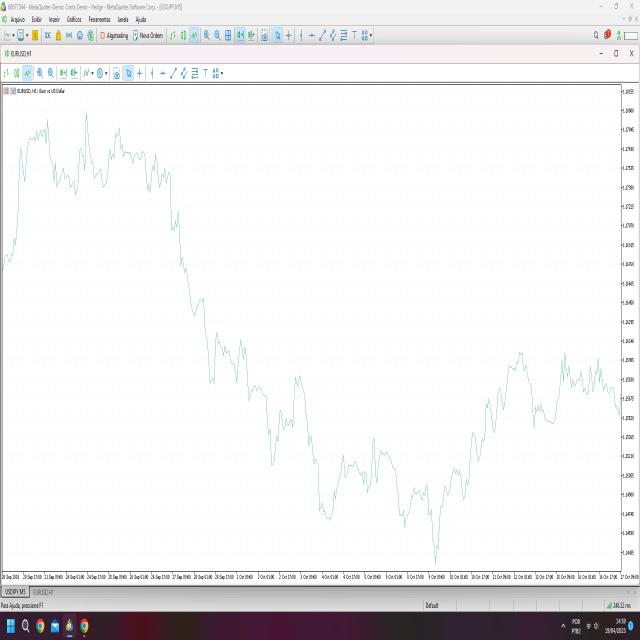oco_inv: (388, 423, 476, 575)
